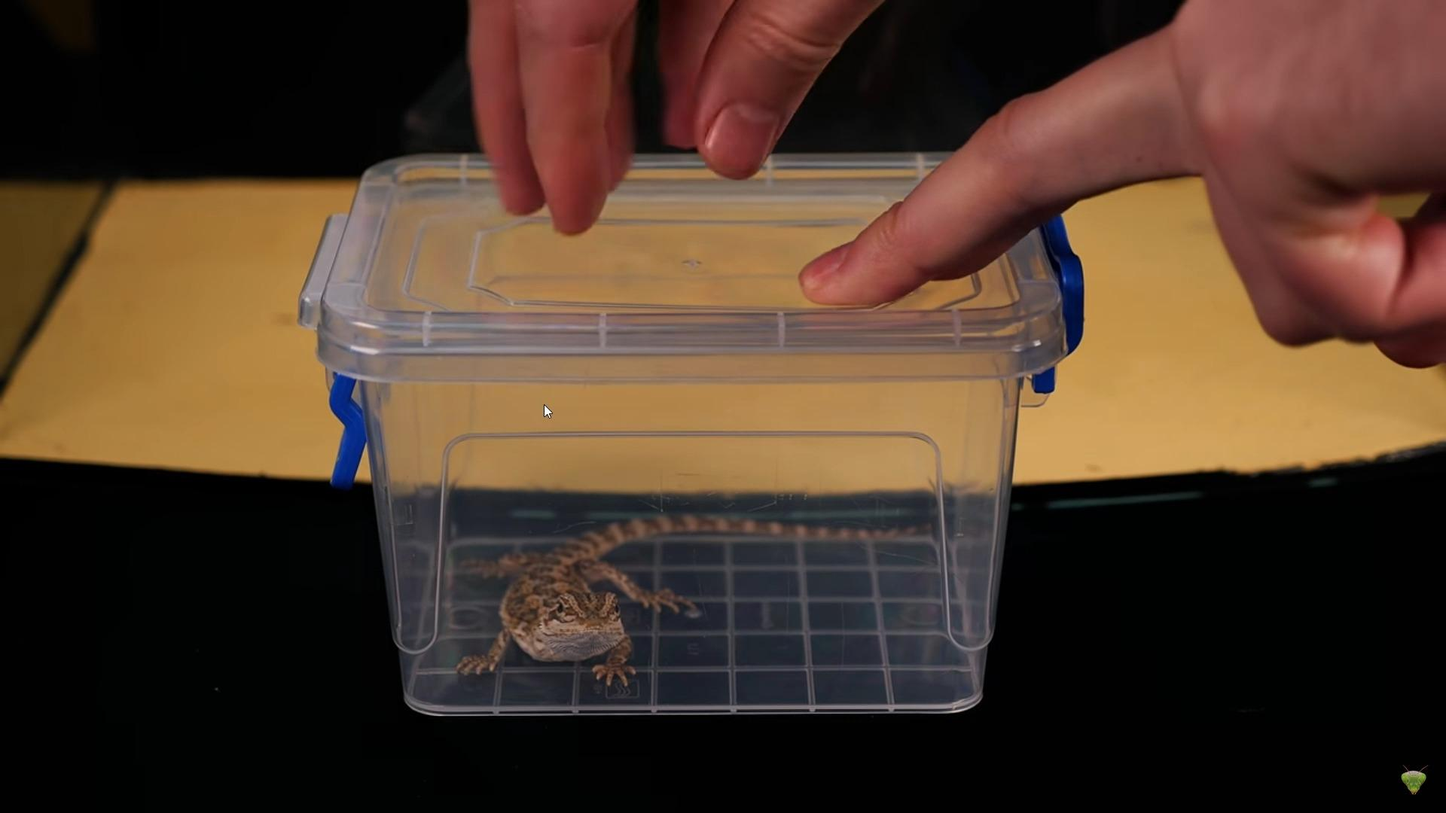lizard: (457, 508, 937, 685)
